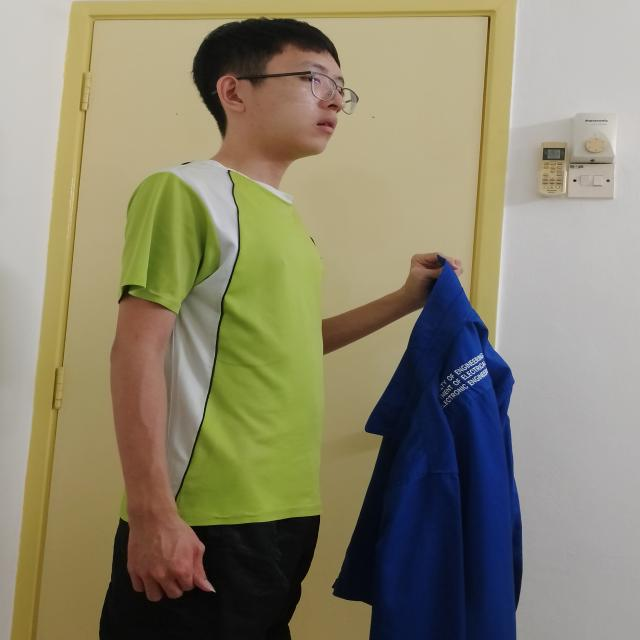person_without_labcoat: (99, 19, 522, 640)
